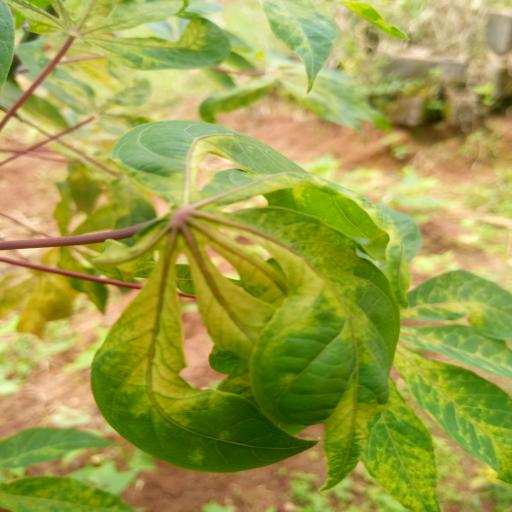Cassava_Mosaic: (86, 118, 409, 474)
